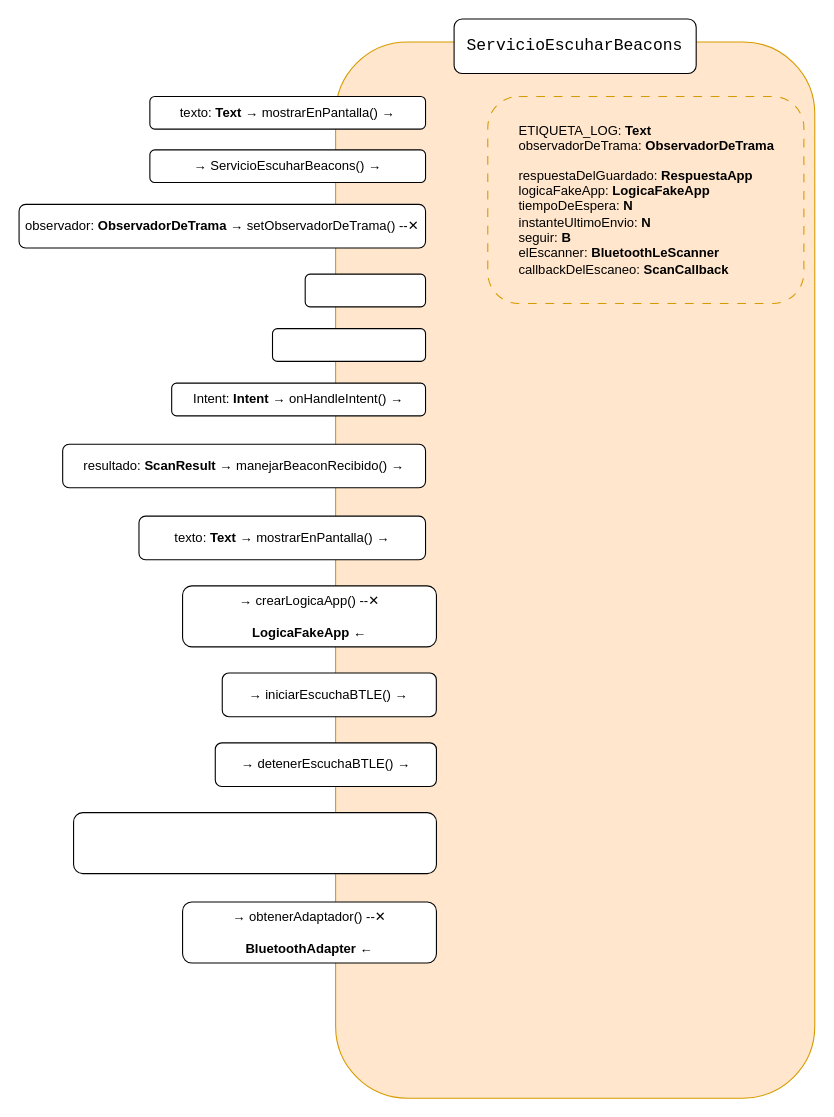
Image size: 834x1117. Some labels were removed from this diagram. Here are the shapes that lost their labels. From the top down, the box of each, then its label:
(304, 273, 426, 307): → parar() →
(271, 328, 426, 361): onDestroy() →
(72, 812, 436, 874): elAdaptador: BluetoothAdapter → estaEncendido() --✕ B ←
